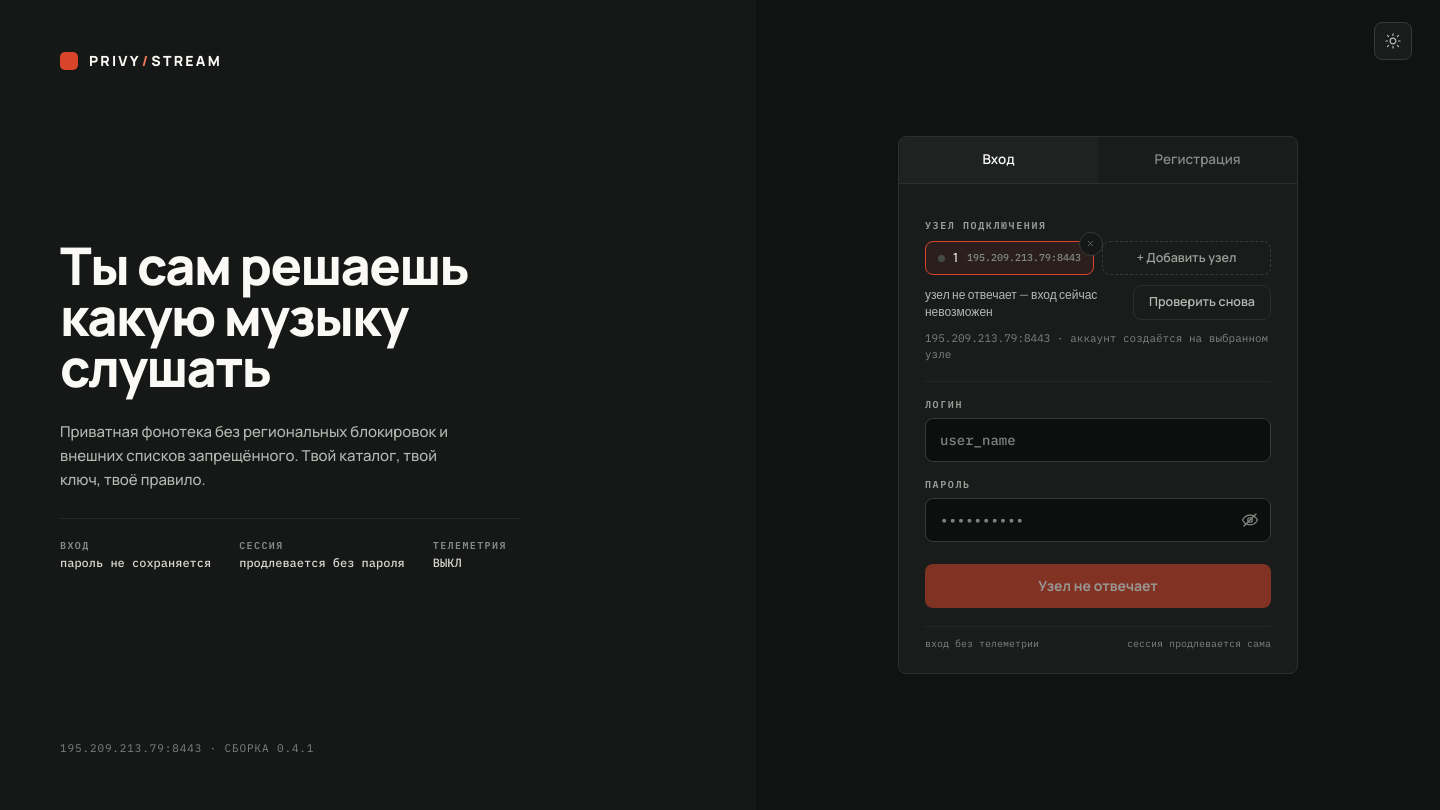
it: shows unavailability and a recheck action before the form is submitted
Expected: the button "Узел не отвечает" is disabled, [925,564,1271,608]
Expected: the text "узел не отвечает — вход сейчас невозможен" is shown, [925,286,1121,320]
Step 1. Click the button "Проверить снова" → point(1202, 303), box [1133,285,1271,320]
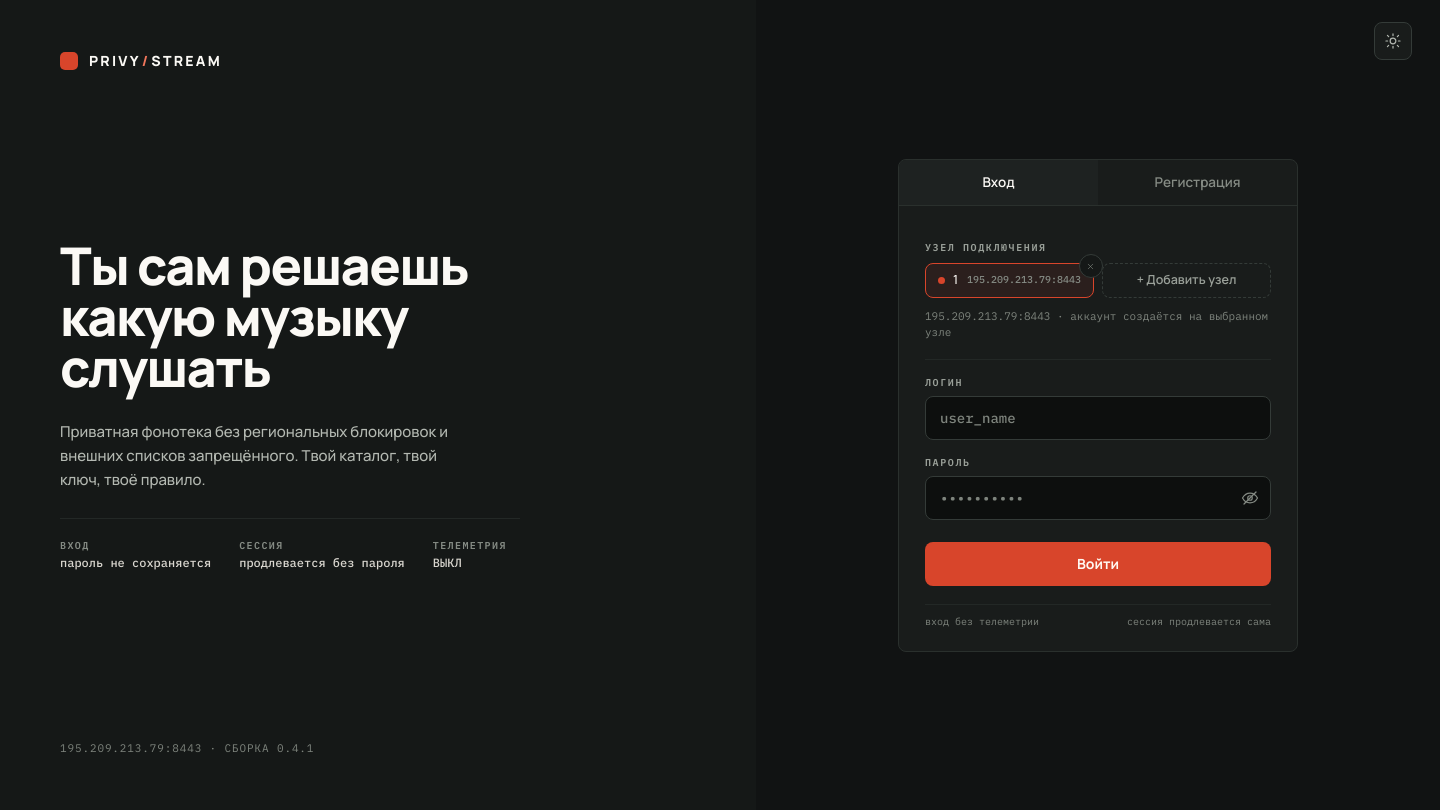
Result: the button "Войти" is enabled at [925,542,1271,586]
